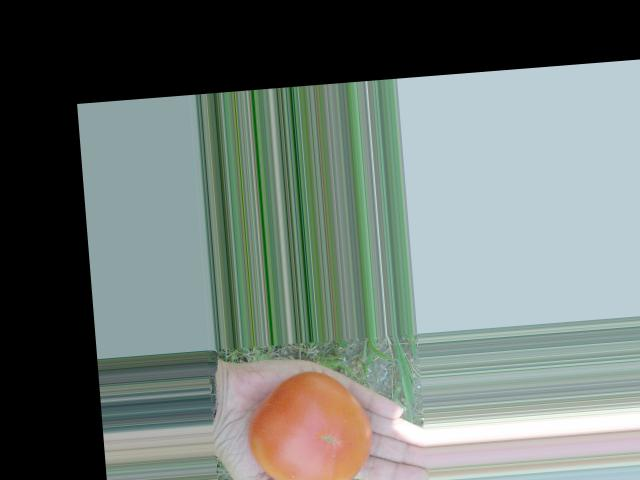tomato: (245, 366, 376, 480)
